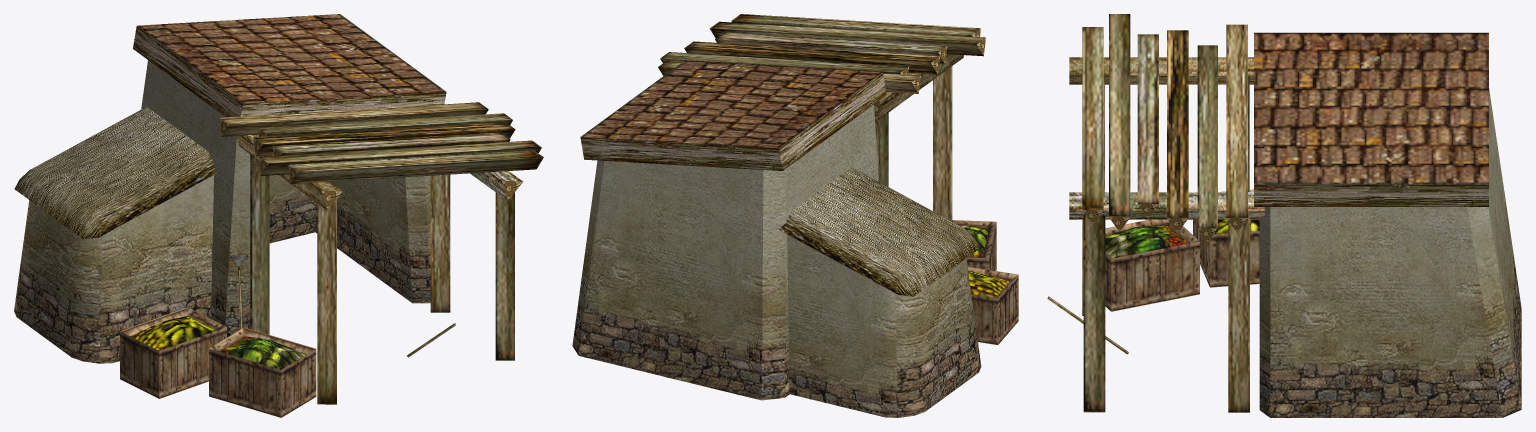
File: iber_farmstead.dae
The picture shows the model from 3 angles, left to right: view 1: azimuth 30°, elevation 25°; view 2: azimuth 150°, elevation 25°; view 3: azimuth 270°, elevation 25°; orthographic projection. The views are drawn at different scales.
Parts seen in each view (by area): view 1: Object09; view 2: Object09; view 3: Object09.
Part boxes in pixels (bbox=[...]): Object09: bbox=[14, 14, 543, 417]; Object09: bbox=[572, 14, 1018, 417]; Object09: bbox=[1047, 14, 1521, 417].
Size of the model in its own units: 13.05 by 12.78 by 8.21.
